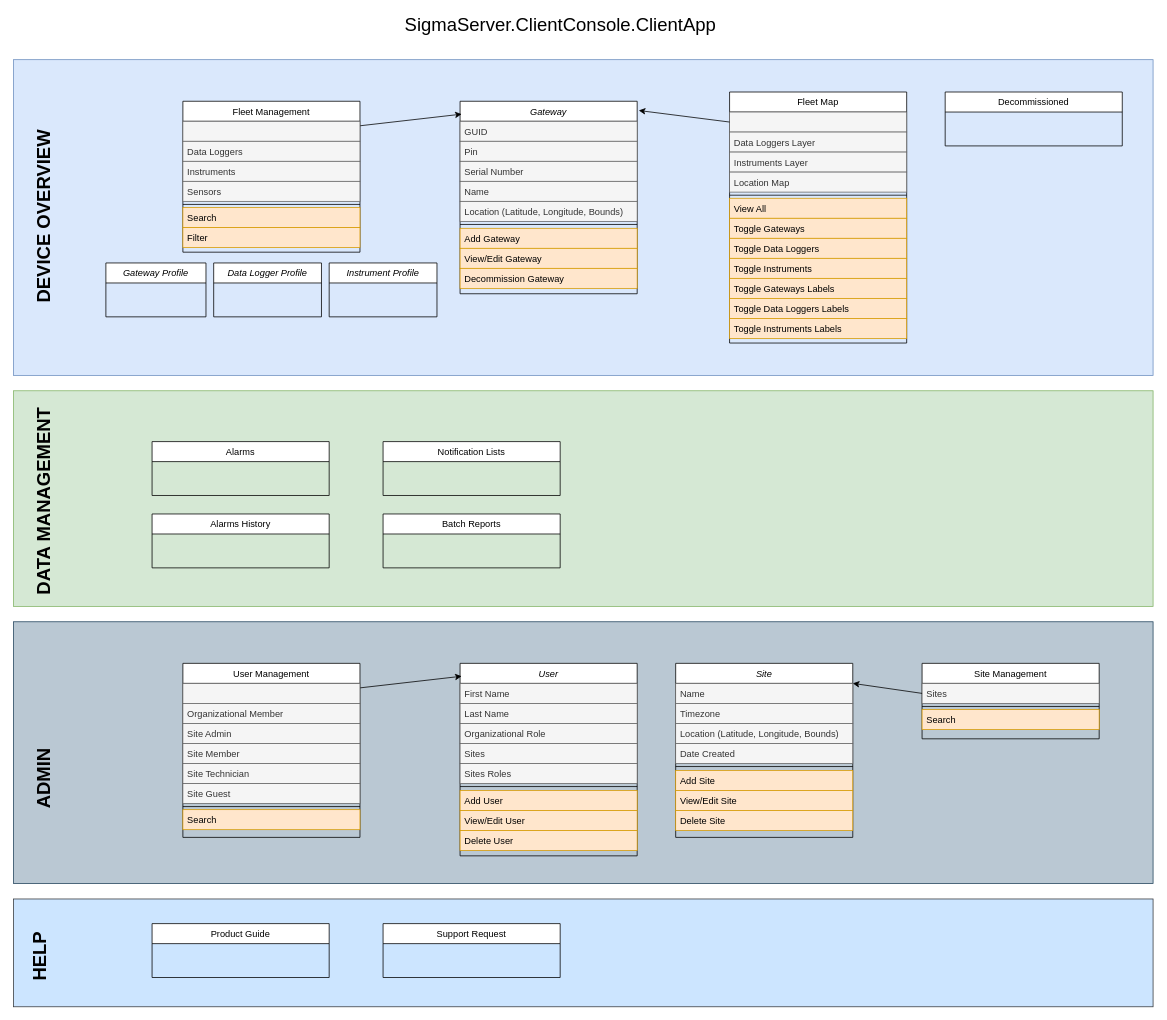
Some shapes in this 1167 by 1020 pixel diagram are drawn without their labels. The centre of each missing label's shape, as x and y in pixels:
"Gateways" goes at (271,131).
"Gateways Layer" goes at (818,121).
"Organizational Admin" goes at (271,693).
